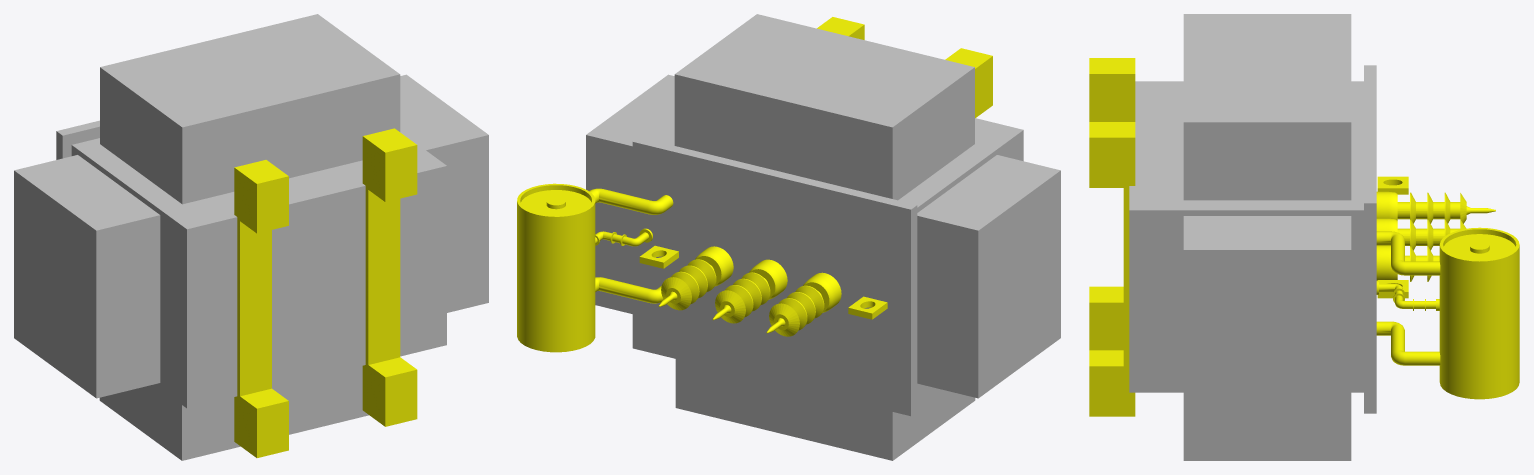
Rendered from sm_hana_epms_transformer.glb.
3 renders of one model, left to right at view 1: azimuth 30°, elevation 25°; view 2: azimuth 150°, elevation 25°; view 3: azimuth 270°, elevation 25°, orthographic.
Visible parts, largest first — view 1: sm_color_common, sm_hana_epms_transformer; view 2: sm_color_common, sm_hana_epms_transformer; view 3: sm_color_common, sm_hana_epms_transformer.
Boxes of the visible parts, <box> form: sm_color_common: <box>14,14,488,460</box>; sm_hana_epms_transformer: <box>234,128,417,457</box>; sm_color_common: <box>586,14,1060,460</box>; sm_hana_epms_transformer: <box>517,17,992,352</box>; sm_color_common: <box>1129,14,1376,460</box>; sm_hana_epms_transformer: <box>1089,58,1519,416</box>.
Bounding box in the file's own units: 2.81 × 2.28 × 2.62.
Materials: 2 (1 with a texture image).
